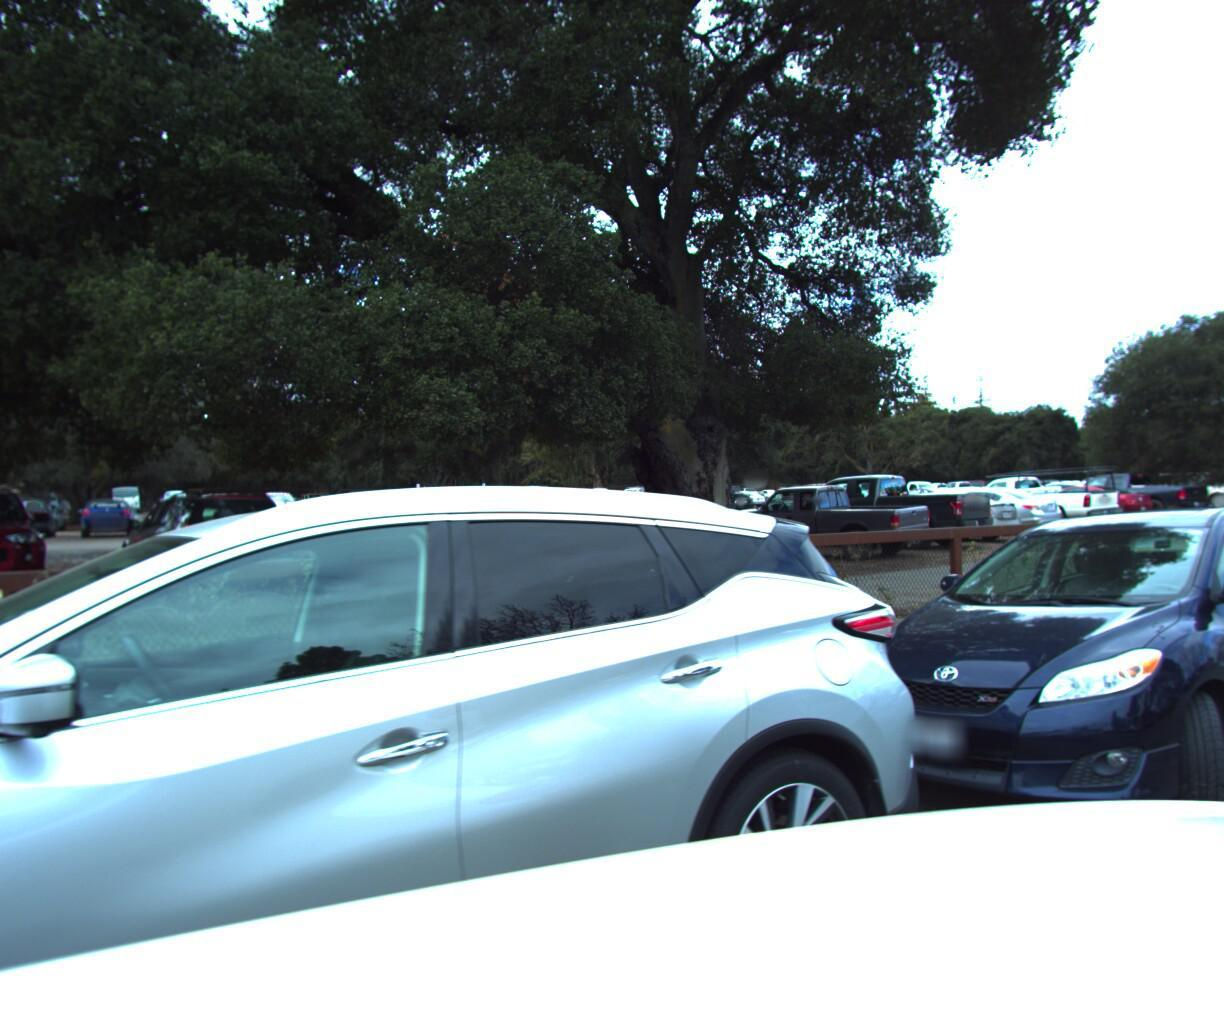car: (0, 473, 1014, 1024), (791, 485, 1224, 905), (771, 465, 1004, 549), (707, 477, 943, 558)
